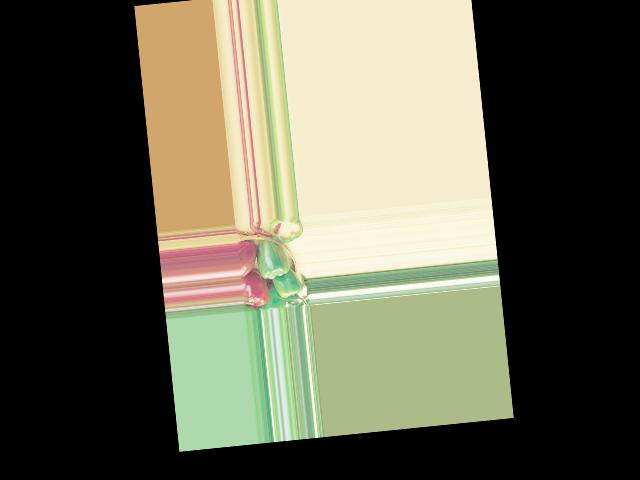bell_pepper: (237, 239, 257, 278)
